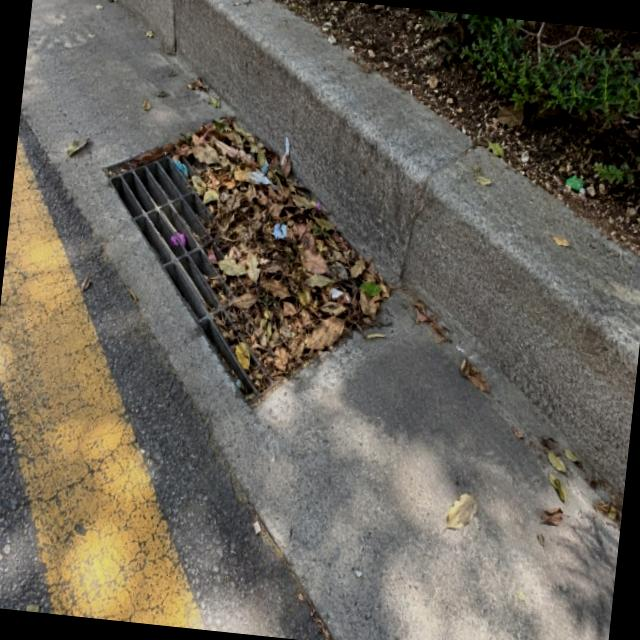drain_area: (111, 158, 255, 395)
drain_full: (109, 126, 389, 399)
